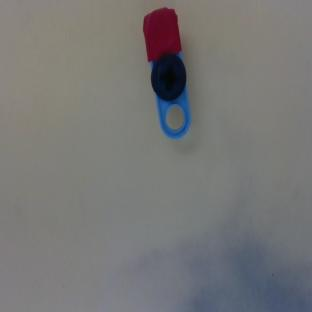part_1_good: (140, 5, 196, 141)
